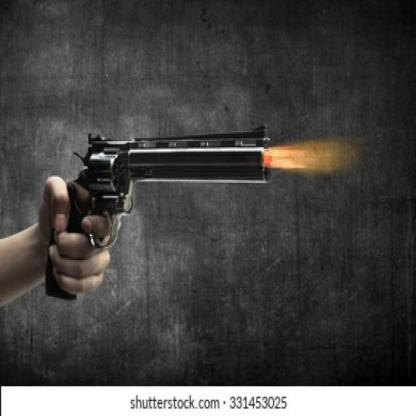handgun: (46, 134, 276, 295)
